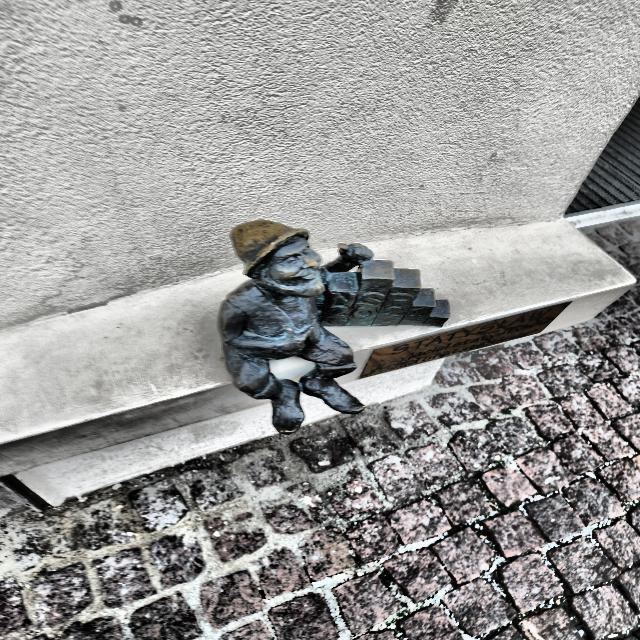Statyslaw: (218, 220, 450, 434)
